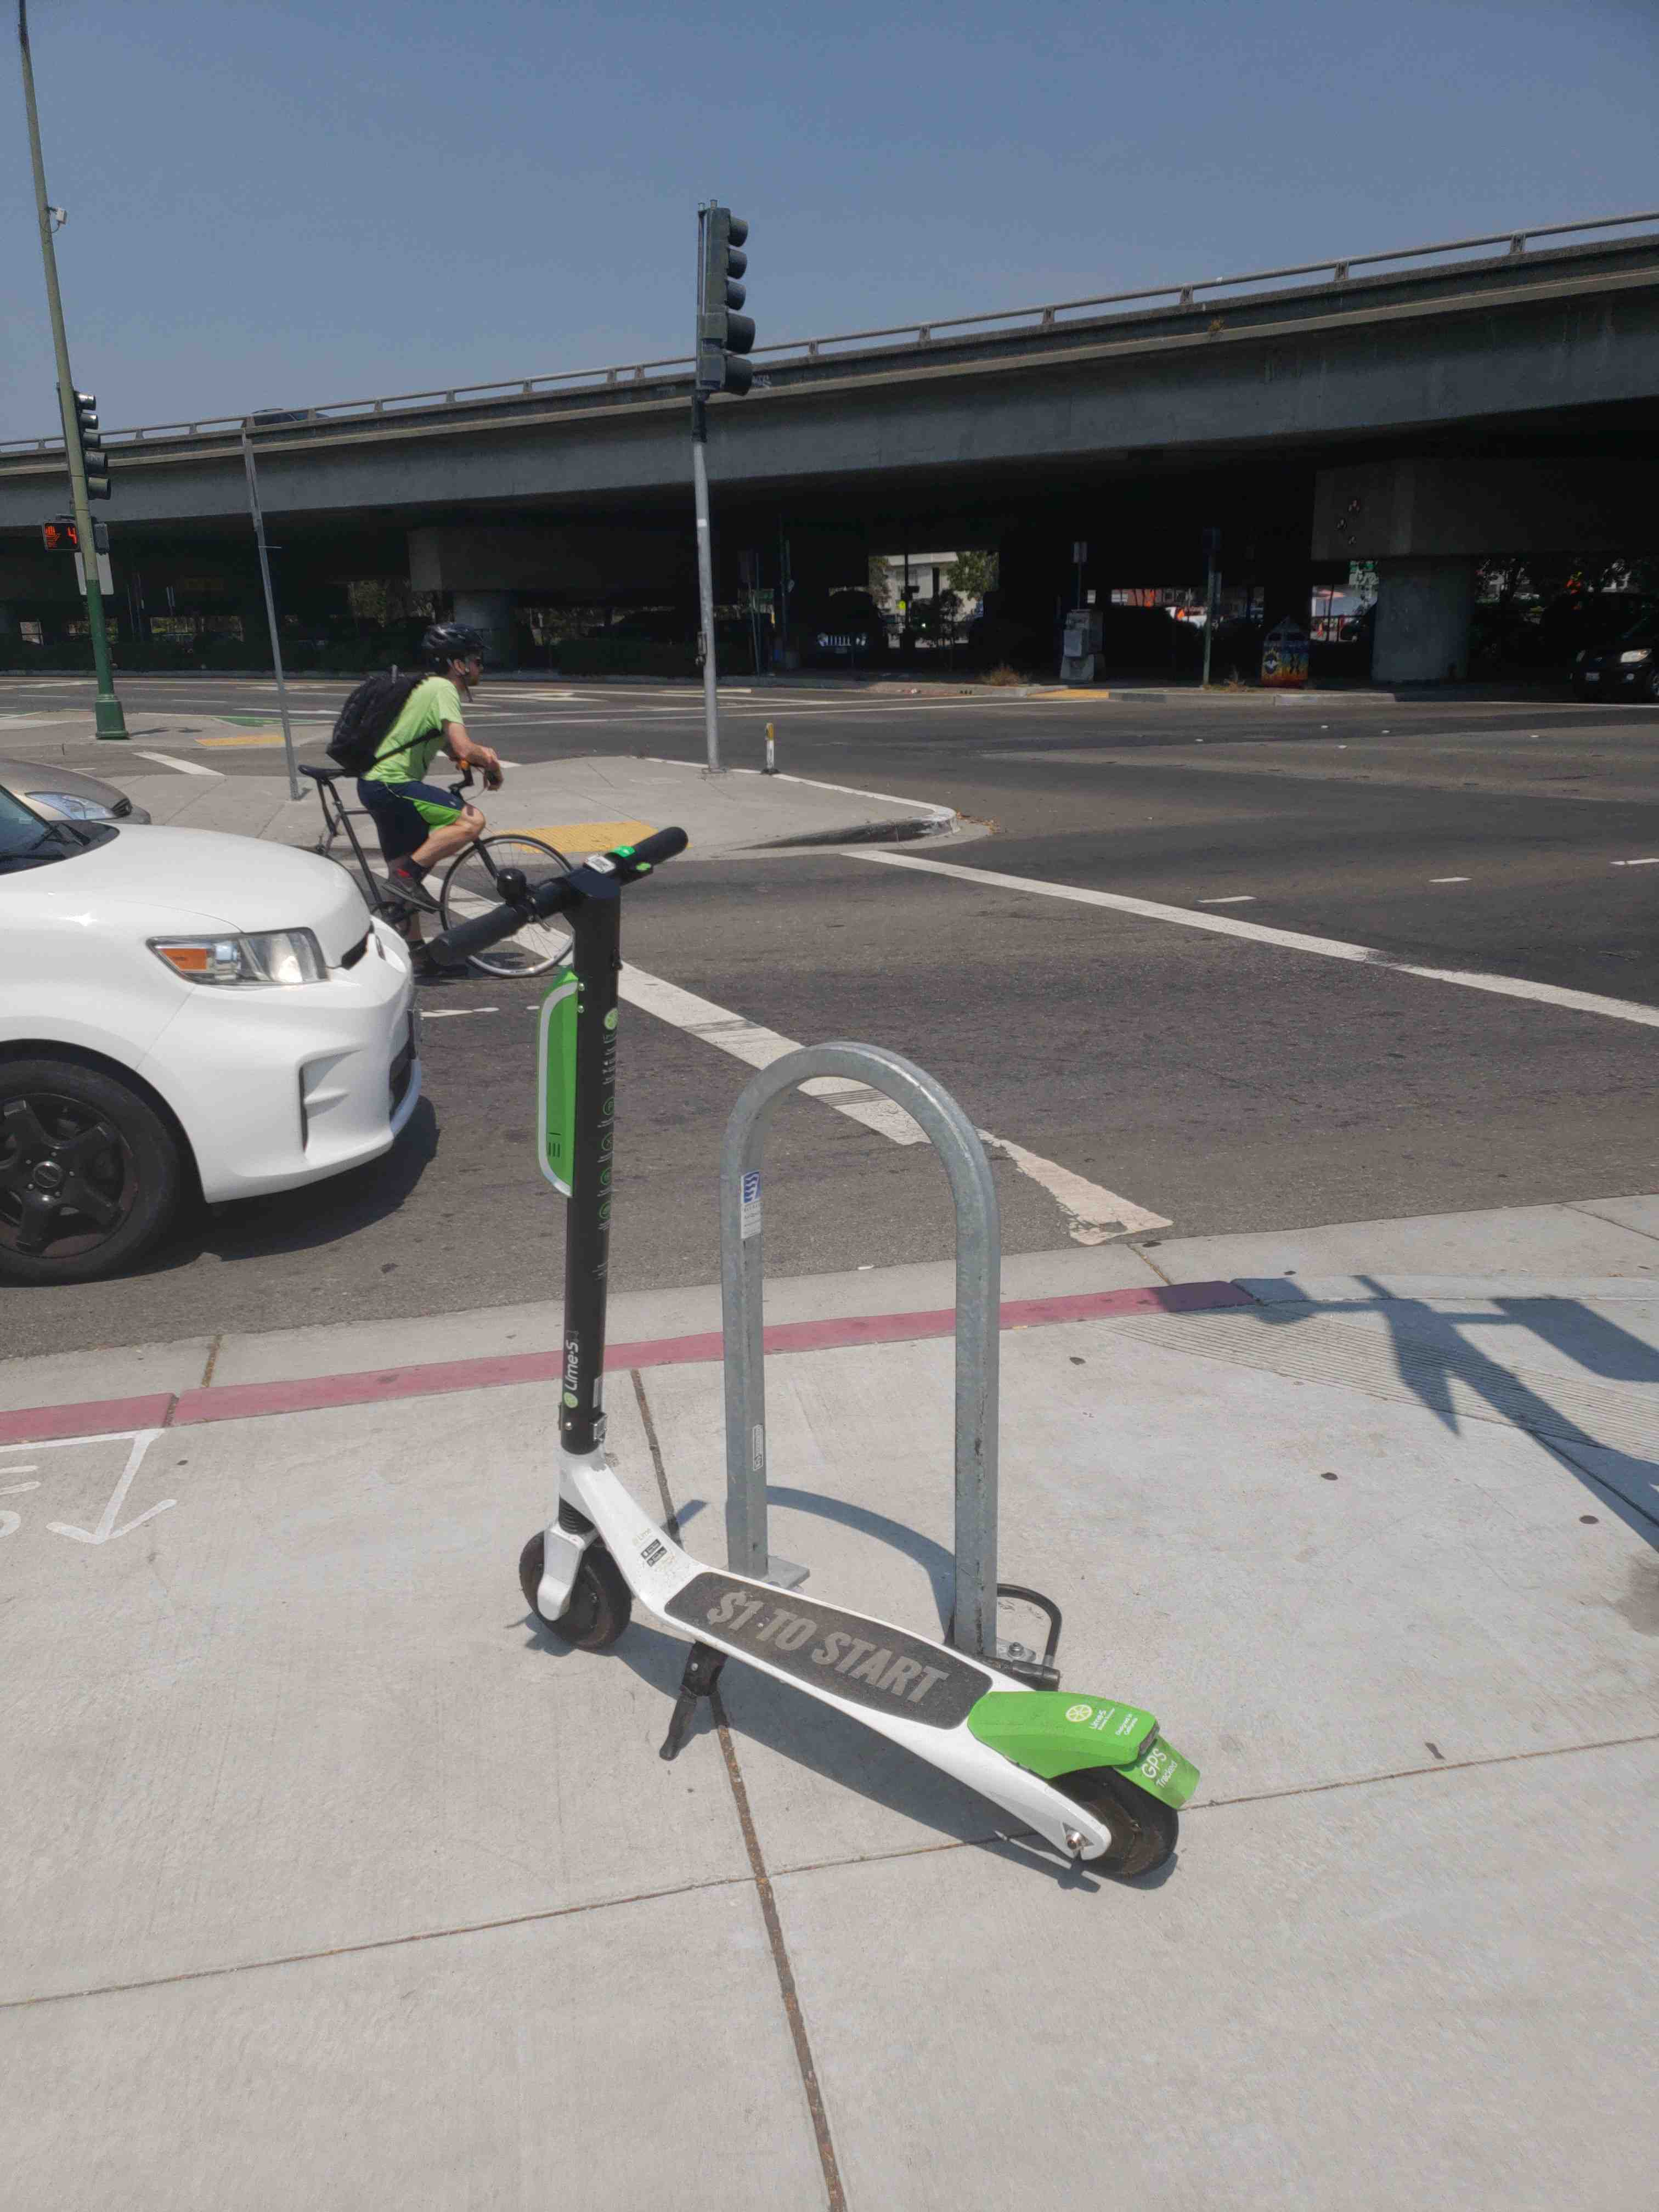scooter: (362, 752, 1211, 1888)
